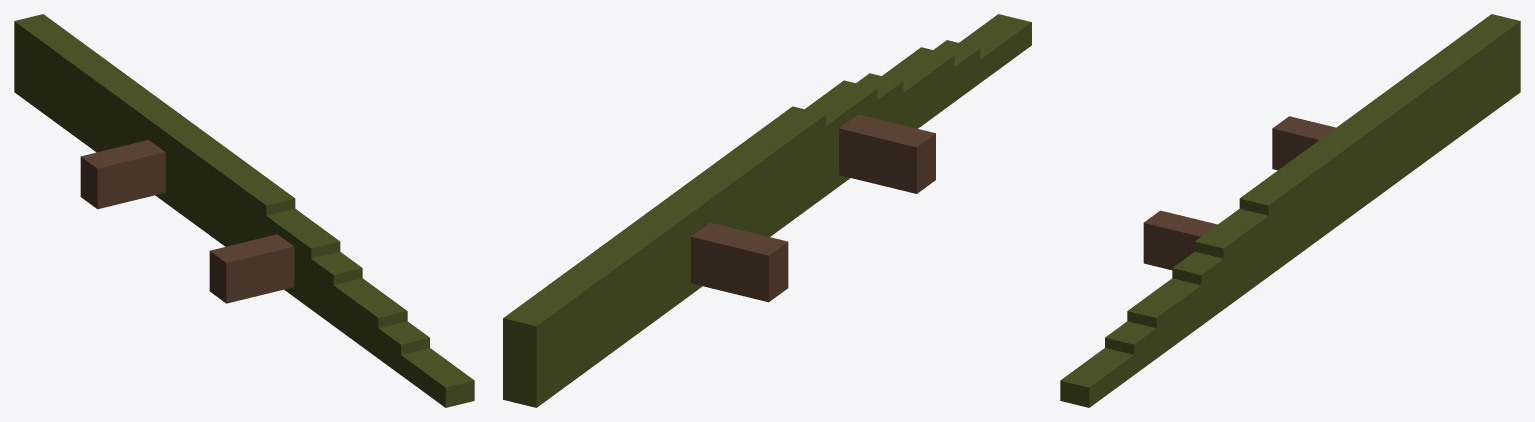
File: abandoned_army_truck_bumper.glb
3 views of the same model, side by side, from view 1: azimuth 30°, elevation 25°; view 2: azimuth 150°, elevation 25°; view 3: azimuth 330°, elevation 25° (orthographic). The views are drawn at different scales.
Parts seen in each view (by area): view 1: body:compound; view 2: body:compound; view 3: body:compound.
Part boxes in pixels (box(x1,y1,x2,y2)): body:compound: box(14, 14, 474, 407); body:compound: box(503, 14, 1031, 407); body:compound: box(1060, 14, 1520, 407).
Bounding box in the file's own units: 0.3125 × 0.2188 × 2.41.
